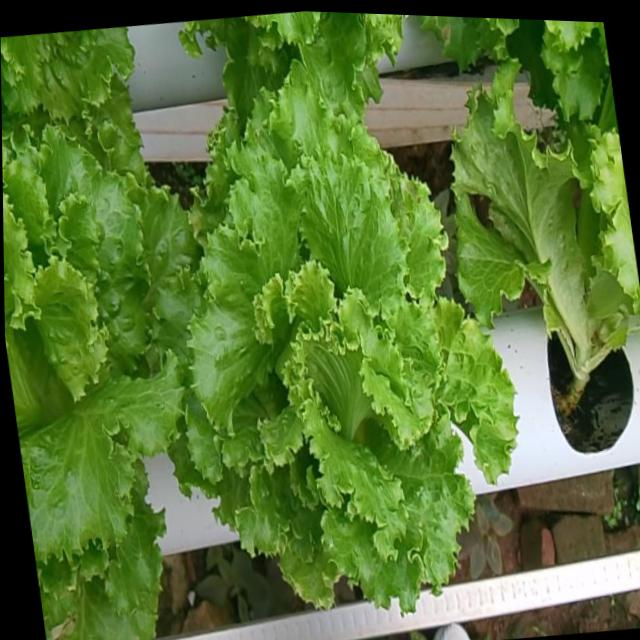Mature: (185, 93, 518, 627), (3, 134, 198, 581)
